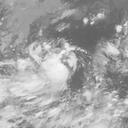cyclone: (24, 50, 91, 106)
